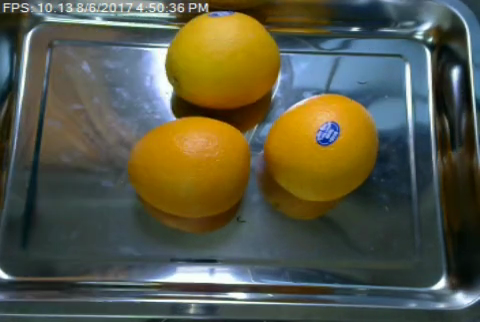Orange: (127, 115, 250, 216), (263, 94, 379, 201), (162, 12, 282, 107)
